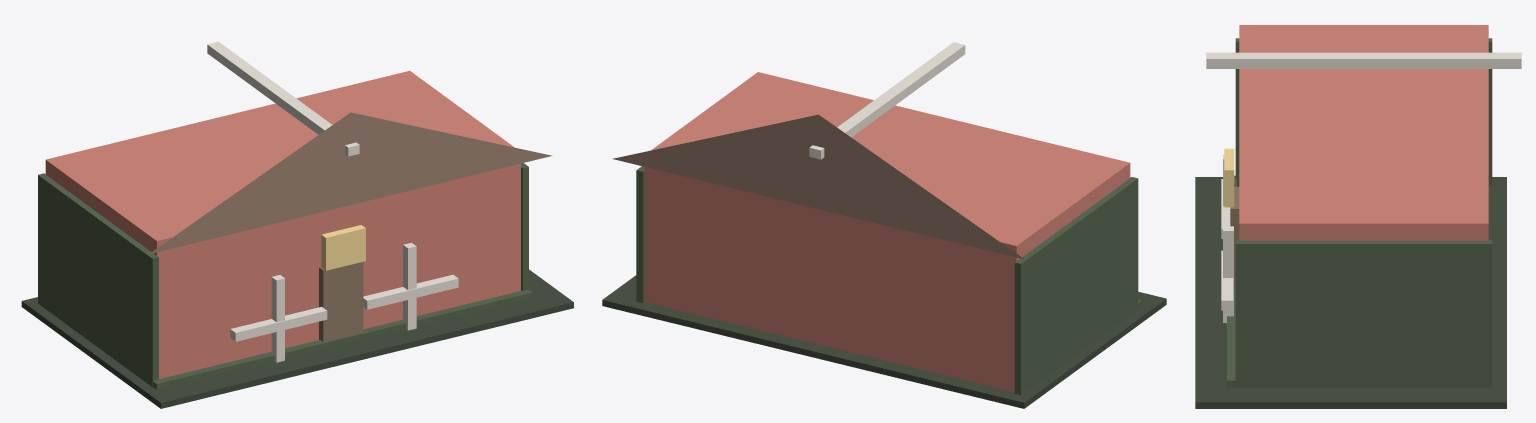
Rendered from building-barn.glb.
3 renders of one model, left to right at view 1: azimuth 30°, elevation 25°; view 2: azimuth 150°, elevation 25°; view 3: azimuth 270°, elevation 25°, orthographic. The views are drawn at different scales.
Visible parts, largest first — view 1: barn; view 2: barn; view 3: barn.
Boxes of the visible parts, <box> form: barn: <box>21,41,573,408</box>; barn: <box>602,42,1166,408</box>; barn: <box>1195,25,1521,408</box>.
Size of the model in its own units: 2.92 by 1.65 by 1.77.
